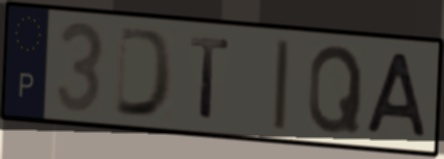3: (53, 19, 109, 116)
A: (362, 50, 430, 141)
D: (111, 23, 177, 121)
I: (270, 37, 292, 133)
Q: (304, 42, 366, 137)
T: (188, 32, 233, 123)
